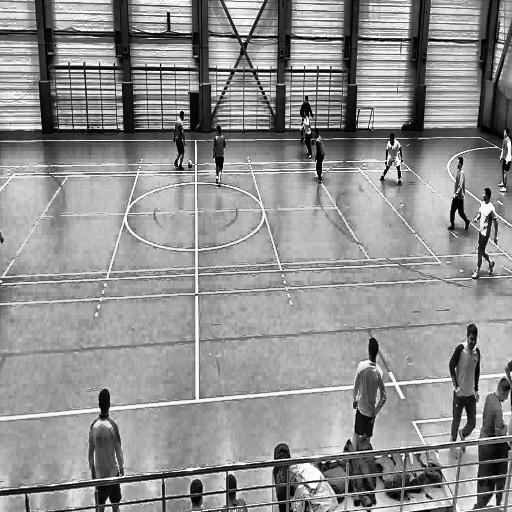ball: (187, 158, 193, 169)
player: (87, 386, 129, 512), (447, 323, 483, 462), (352, 335, 388, 450), (470, 186, 499, 284), (446, 156, 472, 236), (379, 134, 404, 184), (294, 94, 315, 146), (498, 124, 512, 193), (212, 124, 226, 188), (172, 109, 185, 177), (299, 110, 314, 160), (314, 128, 326, 188)
